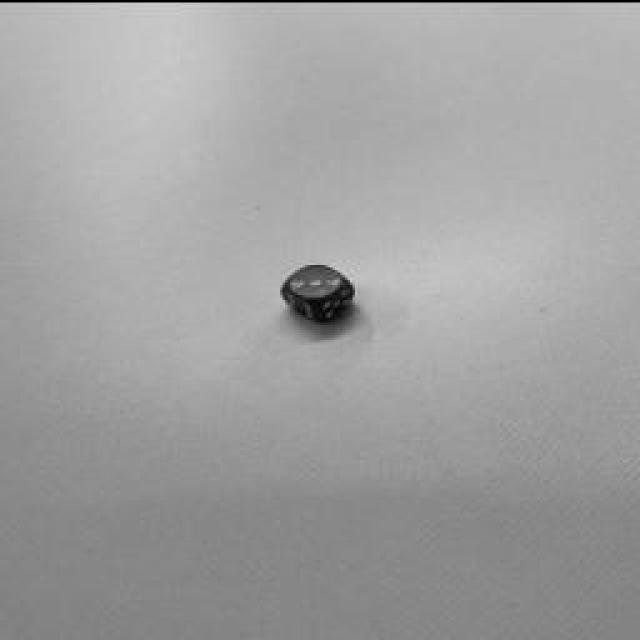dice_3: (288, 262, 344, 298)
